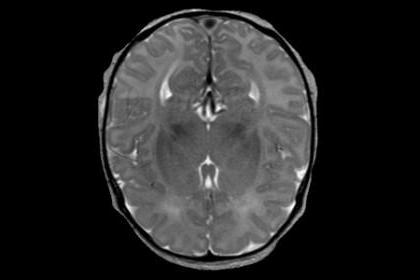Normal_Brain: (70, 1, 355, 280)
